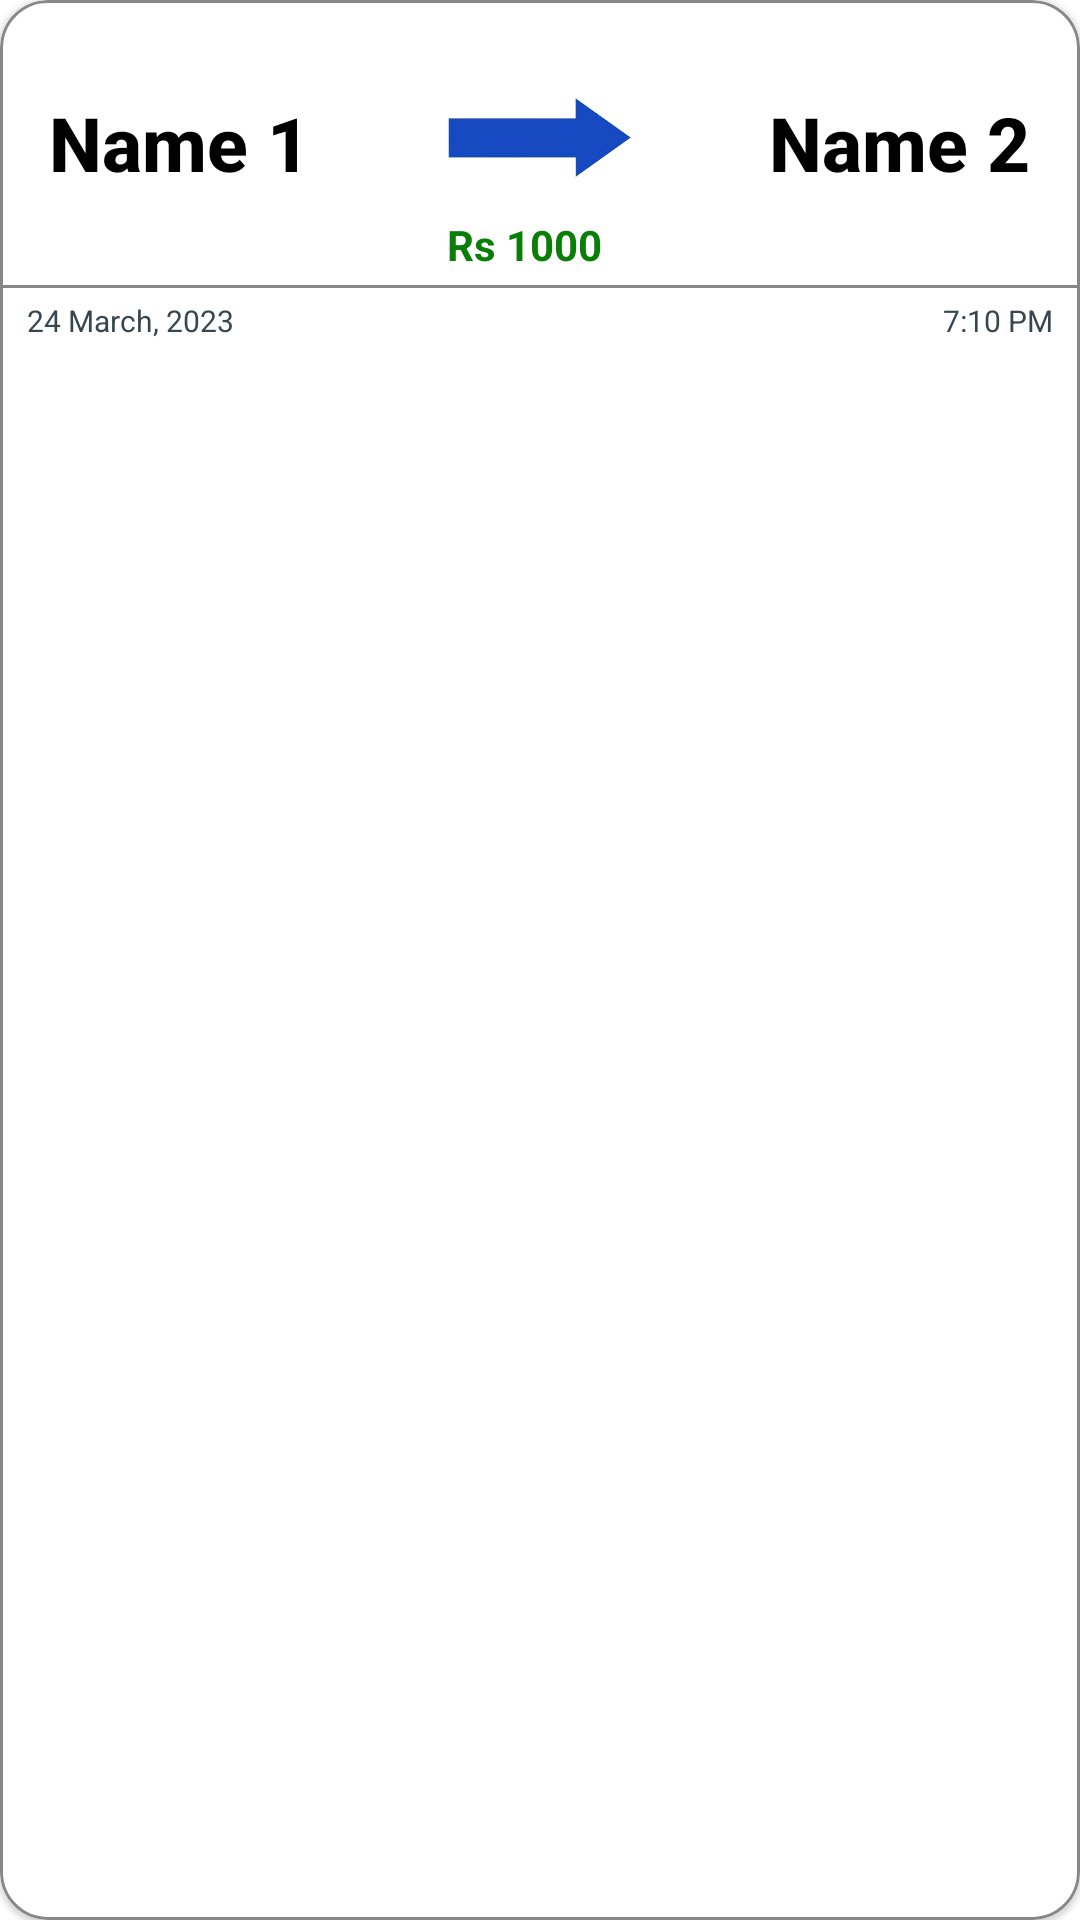

Icon click points for this 1080w x 1920h phone screenshot, format point (x, y):
arrow: point (539, 137)
